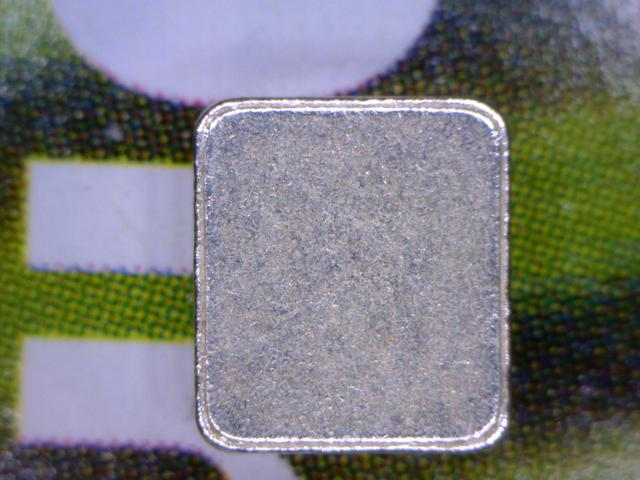nok: (183, 93, 522, 458)
